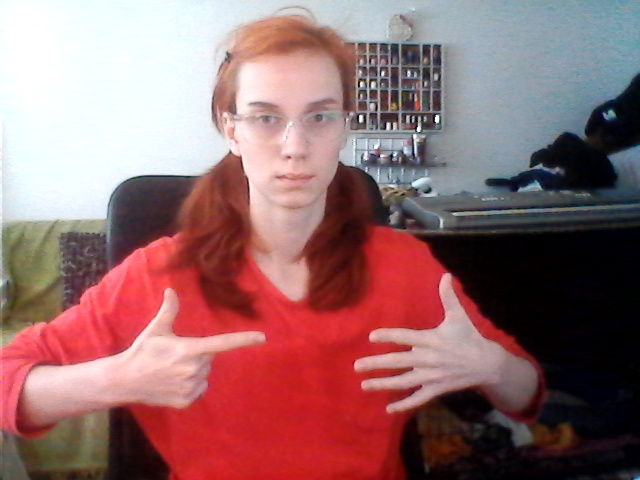sedem: (137, 270, 488, 420)
